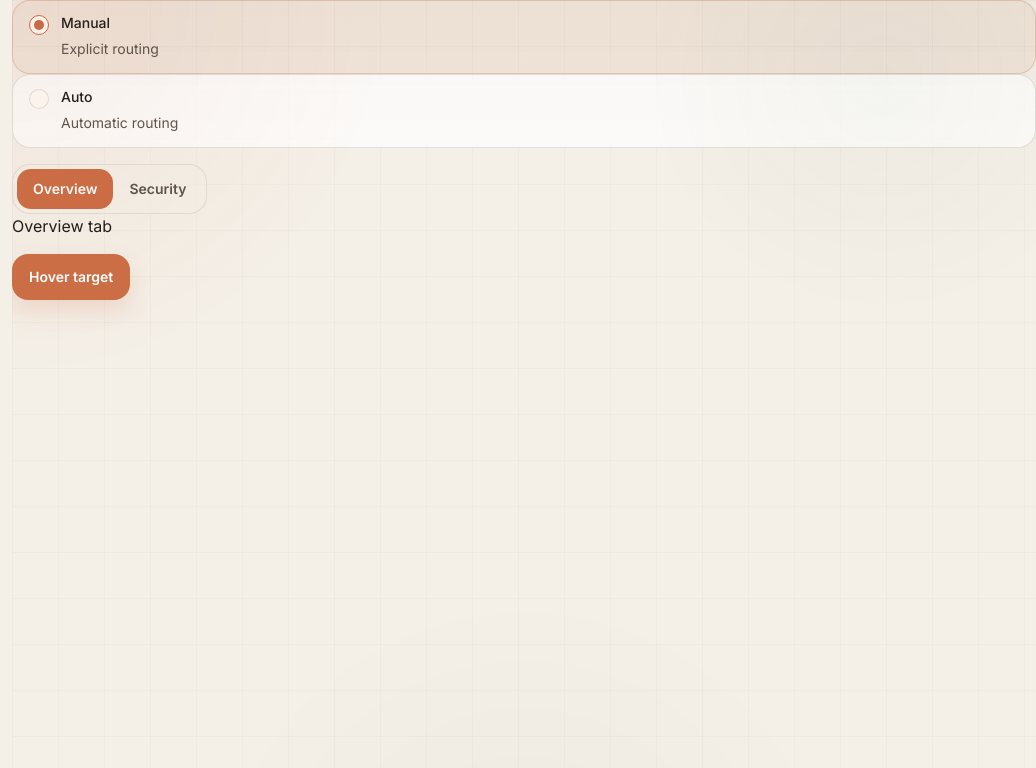
shared ui primitives › renders radio groups, tabs, and tooltips accessibly
Check: the radio button named "manual" next to "Manual" is checked, box [29, 15, 49, 35]
Click the tab "Security" at {"x": 158, "y": 189}, box [114, 169, 202, 209]
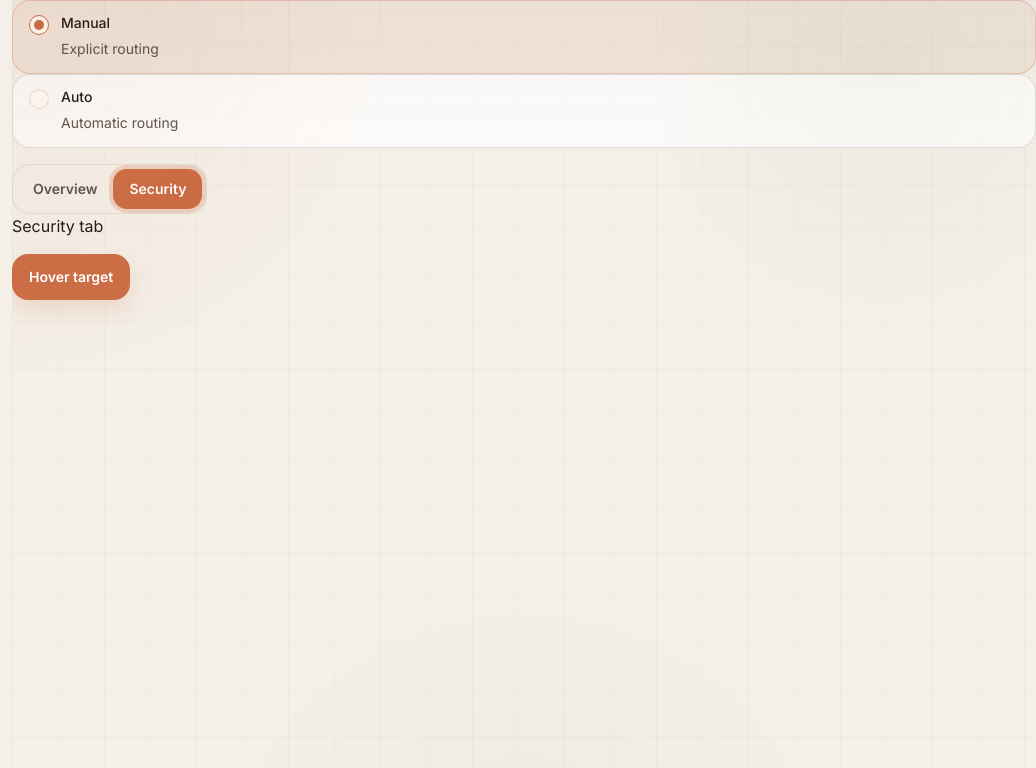
Check: the text "Security tab" is shown, box [12, 216, 103, 236]
Hover over the button "Hover target" at {"x": 71, "y": 277}, box [12, 254, 130, 300]
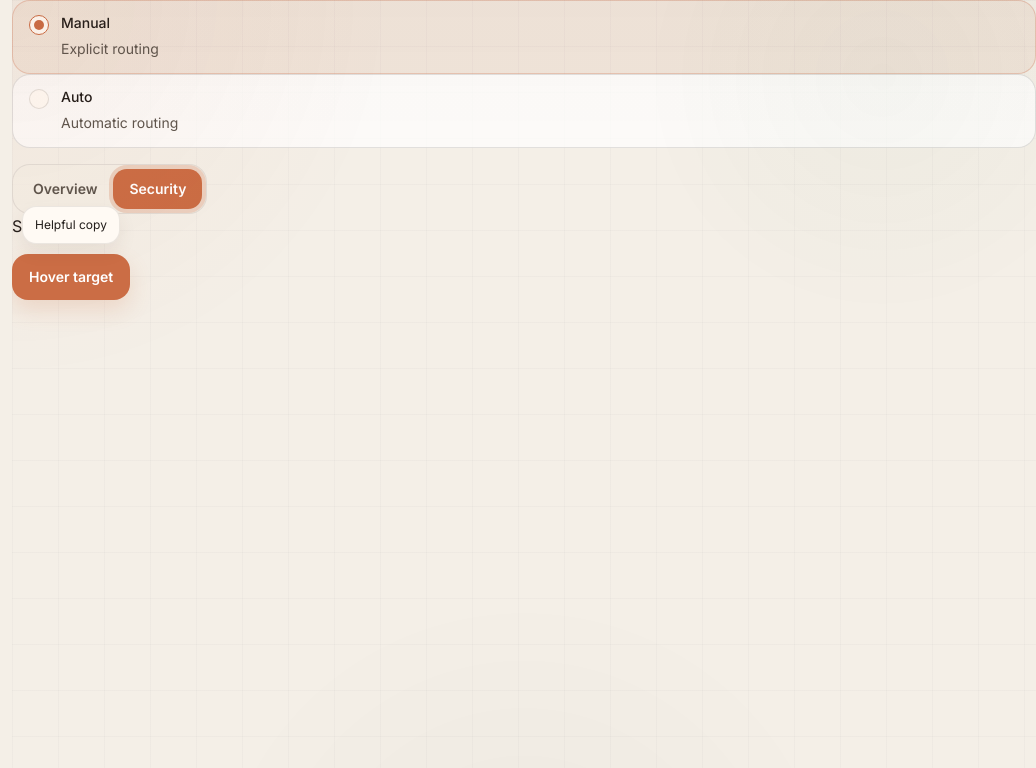
Check: the tooltip reads "Helpful copy", box [35, 217, 107, 232]
